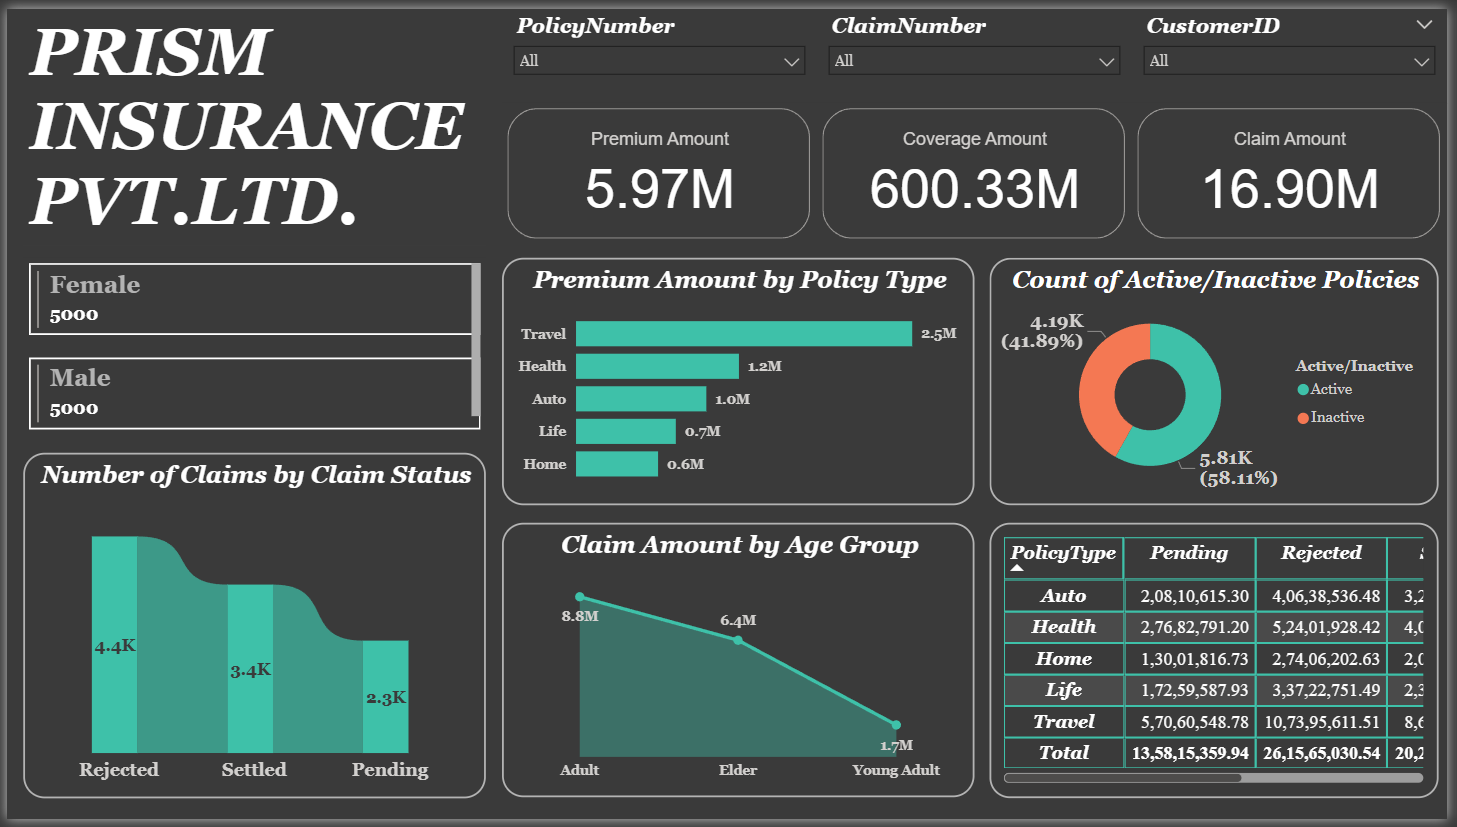

Layout of this report page (visuals, bound fields, positions):
{"tool":"powerbi","page":{"name":"Page 1","canvas":[1280,720],"ordinal":0},"visuals":[{"type":"slicer","fields":{"Values":["InsuranceData.PolicyNumber"]},"box":[440.5,0,279.9,83.7],"z":0},{"type":"slicer","fields":{"Values":["InsuranceData.ClaimNumber"]},"box":[720.4,0,279.9,83.7],"z":1000},{"type":"slicer","fields":{"Values":["InsuranceData.CustomerID"]},"box":[1000.3,0,279.9,83.7],"z":2000},{"type":"textbox","box":[14.3,0,411.4,210],"z":3000},{"type":"cardVisual","fields":{"Data":["Sum(InsuranceData.PremiumAmount)"]},"box":[440.5,83.7,279.9,126.2],"z":4000},{"type":"cardVisual","fields":{"Data":["Sum(InsuranceData.CoverageAmount)"]},"box":[720.4,83.7,279.9,126.2],"z":5000},{"type":"cardVisual","fields":{"Data":["Sum(InsuranceData.ClaimAmount)"]},"box":[1000.3,83.7,279.9,126.2],"z":6000},{"type":"multiRowCard","fields":{"Values":["InsuranceData.Gender","CountNonNull(InsuranceData.Gender)"]},"box":[14.3,221.4,411.4,161.4],"z":7000},{"type":"ribbonChart","title":"Number of Claims by Claim Status","fields":{"Category":["InsuranceData.ClaimStatus"],"Y":["CountNonNull(InsuranceData.ClaimStatus)"]},"box":[14.3,394.3,411.4,307.1],"z":8000},{"type":"barChart","title":"Premium Amount by Policy Type","fields":{"Category":["InsuranceData.PolicyType"],"Y":["Sum(InsuranceData.PremiumAmount)"]},"box":[440,221.4,420,220],"z":9000},{"type":"lineChart","title":"Claim Amount by Age Group","fields":{"Category":["InsuranceData.Age Group"],"Y":["Sum(InsuranceData.ClaimAmount)"]},"box":[440,457.1,420,244.3],"z":10000},{"type":"donutChart","title":"Count of Active/Inactive Policies","fields":{"Category":["InsuranceData.Active/Inactive"],"Y":["CountNonNull(InsuranceData.Active/Inactive)"]},"box":[873.3,221.1,398.9,220],"z":11000},{"type":"pivotTable","fields":{"Rows":["InsuranceData.PolicyType"],"Values":["Sum(InsuranceData.CoverageAmount)"],"Columns":["InsuranceData.ClaimStatus"]},"box":[873.3,456.7,398.9,244.4],"z":12000}]}

Visuals, with their boxes in screenshot pixels (x1, y1, x2, y2), scaled from the page's 1280x720 canvas onto the 1457x827 screenshot:
slicer - InsuranceData.PolicyNumber: detection(501, 0, 820, 96)
slicer - InsuranceData.ClaimNumber: detection(820, 0, 1139, 96)
slicer - InsuranceData.CustomerID: detection(1139, 0, 1456, 96)
textbox: detection(16, 0, 485, 241)
cardVisual - Sum(InsuranceData.PremiumAmount): detection(501, 96, 820, 241)
cardVisual - Sum(InsuranceData.CoverageAmount): detection(820, 96, 1139, 241)
cardVisual - Sum(InsuranceData.ClaimAmount): detection(1139, 96, 1456, 241)
multiRowCard - InsuranceData.Gender x CountNonNull(InsuranceData.Gender): detection(16, 254, 485, 440)
"Number of Claims by Claim Status" ribbonChart: detection(16, 453, 485, 806)
"Premium Amount by Policy Type" barChart: detection(501, 254, 979, 507)
"Claim Amount by Age Group" lineChart: detection(501, 525, 979, 806)
"Count of Active/Inactive Policies" donutChart: detection(994, 254, 1448, 507)
pivotTable - InsuranceData.PolicyType x Sum(InsuranceData.CoverageAmount): detection(994, 525, 1448, 805)
